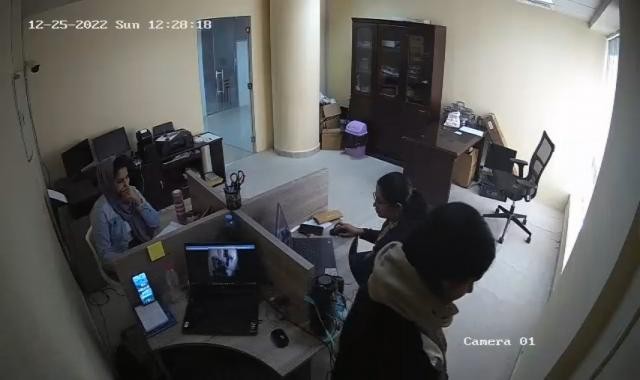no_hairnet: (421, 205, 496, 300), (372, 174, 405, 219), (96, 156, 131, 190)
